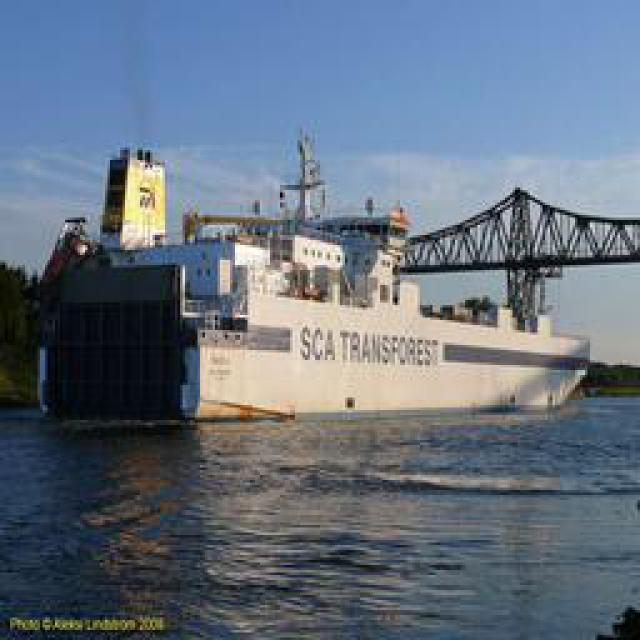Ship: (167, 167, 597, 420)
